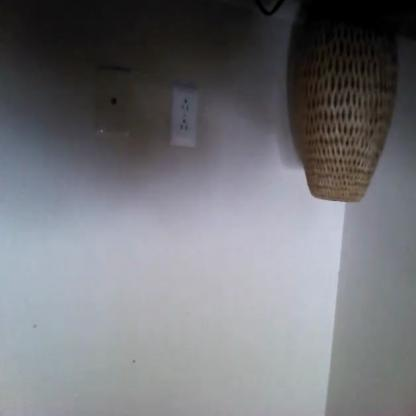OUTLET: (169, 84, 198, 149)
